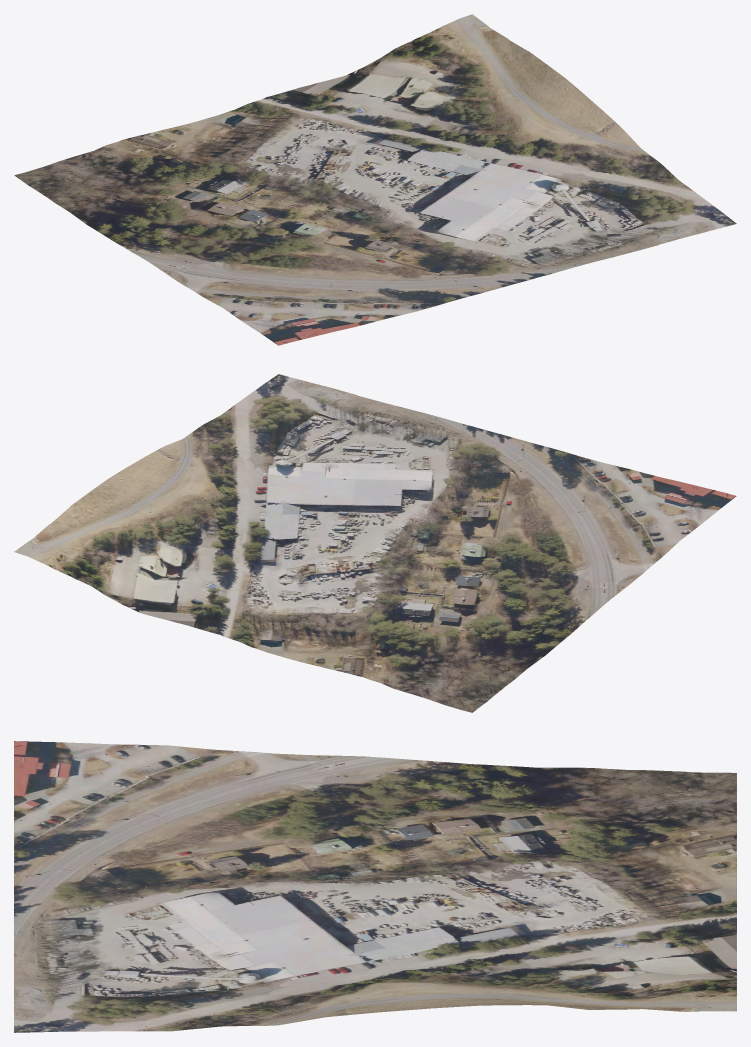
Rendered from CM_Terrain_24492506_6818360.fbx.
3 renders of one model, top to bottom at view 1: azimuth 30°, elevation 25°; view 2: azimuth 150°, elevation 25°; view 3: azimuth 270°, elevation 25°, orthographic. The views are drawn at different scales.
Parts seen in each view (by area): view 1: CM_Terrain_24492506_6818360_LOD0; view 2: CM_Terrain_24492506_6818360_LOD0; view 3: CM_Terrain_24492506_6818360_LOD0.
Boxes of the visible parts, bbox=[...] form: CM_Terrain_24492506_6818360_LOD0: bbox=[14, 14, 736, 345]; CM_Terrain_24492506_6818360_LOD0: bbox=[14, 374, 736, 712]; CM_Terrain_24492506_6818360_LOD0: bbox=[14, 741, 736, 1032].
Size of what is drawn, in the model's own units: 205 by 22.92 by 205.
